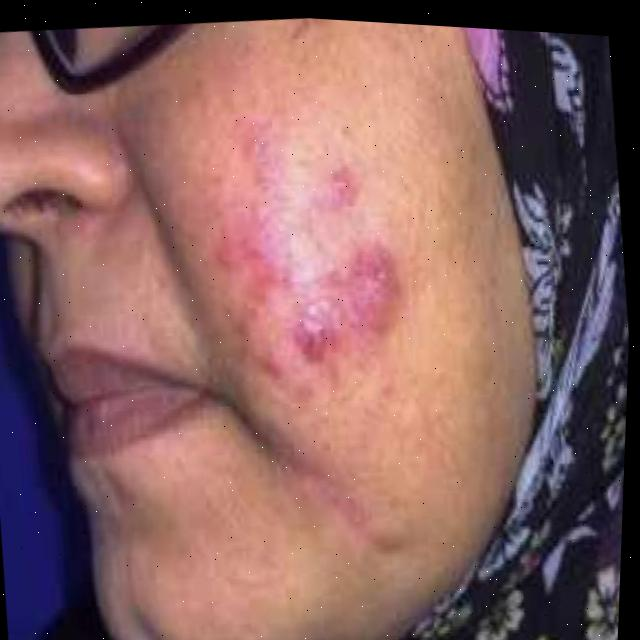Rosacea: (205, 123, 393, 390)
